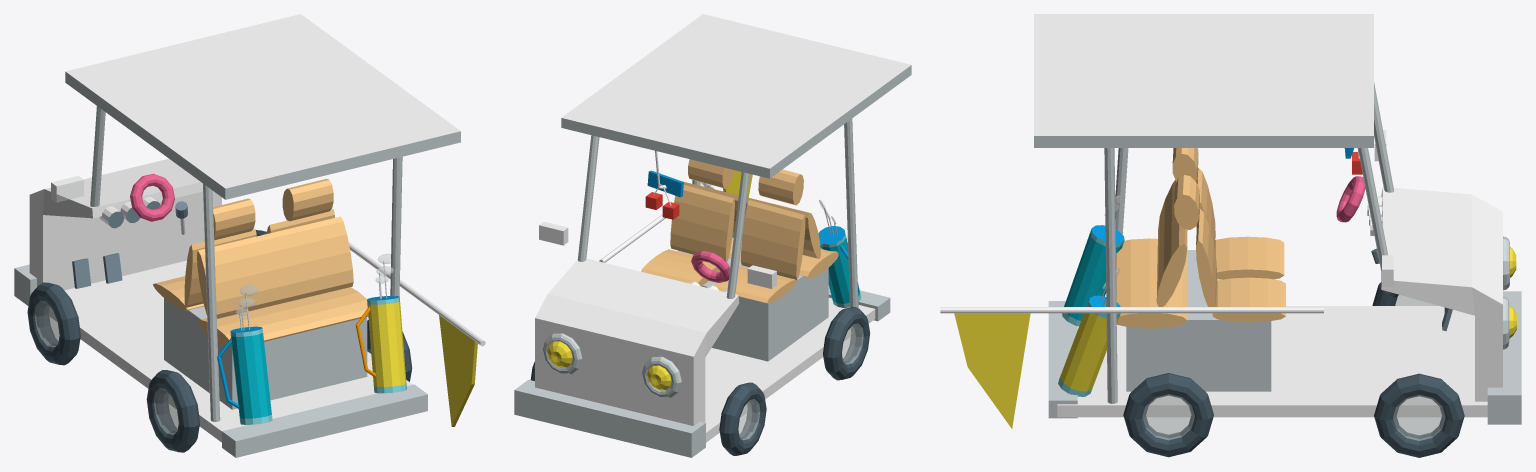
The model's file is Golf cart.glb.
3 views of the same model, side by side, from view 1: azimuth 30°, elevation 25°; view 2: azimuth 150°, elevation 25°; view 3: azimuth 270°, elevation 25° (orthographic). The views are drawn at different scales.
Parts seen in each view (by area): view 1: group224041890, group401866345, group733663041, group1060291517, group537653599, group2029727130, group1174046005, group2140300993, group749633259, group933420600, group166920075, group874878166 (+15 smaller); view 2: group224041890, group401866345, group1028569847, group537653599, group733663041, group940960681, group977832694, group749633259, group933420600, group1998299147, group166920075, group1420970056 (+19 smaller); view 3: group224041890, group733663041, group401866345, group537653599, group2140300993, group692682568, group435195439, group1174046005, group874878166, group1951207894, group890208621, group1028569847 (+14 smaller).
Boxes of the visible parts, x1,y1,x2,y2 form: group224041890: (65, 14, 460, 199); group401866345: (29, 158, 221, 290); group733663041: (49, 260, 412, 442); group1060291517: (197, 216, 353, 318); group537653599: (164, 298, 367, 409); group2029727130: (222, 384, 427, 457); group1174046005: (198, 287, 368, 349); group2140300993: (348, 242, 485, 426); group749633259: (27, 282, 80, 365); group933420600: (146, 370, 199, 452); group166920075: (230, 326, 272, 424); group874878166: (367, 296, 406, 393); group224041890: (561, 14, 911, 178); group401866345: (535, 258, 739, 425); group1028569847: (514, 379, 705, 457); group537653599: (678, 250, 828, 361); group733663041: (705, 297, 875, 442); group940960681: (741, 200, 805, 279); group977832694: (670, 185, 734, 262); group749633259: (719, 382, 766, 455); group933420600: (823, 307, 870, 380); group1998299147: (844, 119, 858, 308); group166920075: (818, 226, 861, 308); group1420970056: (641, 249, 720, 285); group224041890: (1034, 14, 1373, 147); group733663041: (1057, 306, 1487, 417); group401866345: (1381, 187, 1502, 401); group537653599: (1126, 250, 1271, 391); group2140300993: (940, 307, 1323, 428); group692682568: (1123, 373, 1213, 457); group435195439: (1374, 373, 1464, 457); group1174046005: (1116, 238, 1187, 328); group874878166: (1058, 295, 1120, 396); group1951207894: (1215, 236, 1284, 279); group890208621: (1104, 148, 1117, 403); group1028569847: (1487, 291, 1521, 424).
Size of the model in its own units: 1.96 by 2.23 by 3.58.
